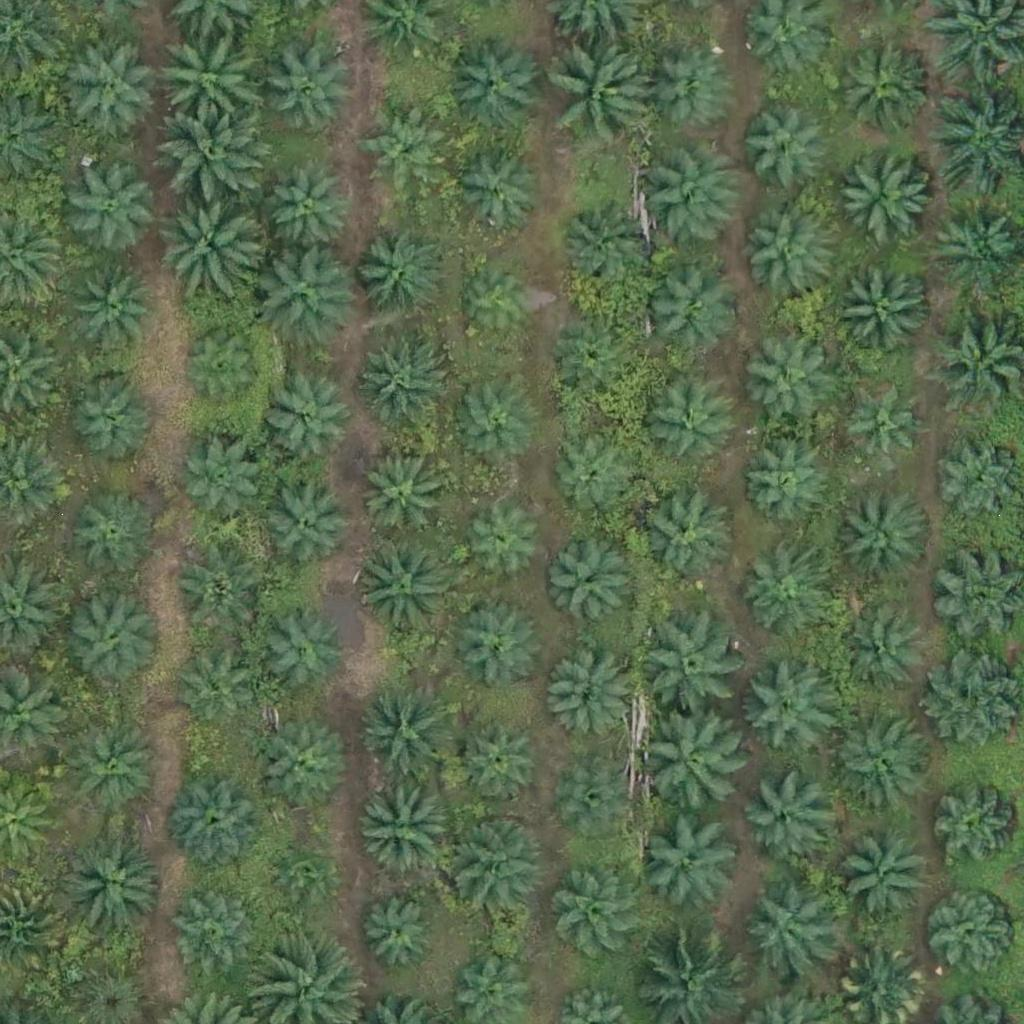Kelapa_Sawit: (635, 708, 748, 822), (647, 813, 747, 914), (441, 813, 541, 914), (168, 773, 268, 874), (60, 830, 160, 931), (57, 36, 157, 137), (62, 582, 162, 683), (60, 715, 160, 816), (158, 36, 258, 137), (156, 189, 256, 290), (259, 245, 359, 346), (354, 541, 454, 642), (357, 681, 457, 782), (552, 47, 652, 148), (559, 195, 659, 296), (632, 491, 732, 592), (647, 616, 747, 717), (737, 328, 837, 429), (831, 711, 931, 812), (832, 262, 932, 363), (834, 143, 934, 244), (830, 34, 930, 135), (355, 780, 455, 880), (163, 107, 263, 207), (442, 38, 542, 138), (449, 142, 549, 242), (642, 149, 742, 249), (738, 654, 838, 754), (358, 234, 446, 323), (740, 773, 828, 861), (741, 889, 829, 977), (556, 873, 644, 961), (171, 894, 259, 982), (67, 373, 155, 461), (68, 493, 156, 581), (182, 437, 270, 525), (175, 551, 263, 639), (268, 169, 356, 257), (260, 380, 348, 468), (264, 481, 352, 569), (256, 610, 344, 698), (361, 104, 449, 192), (358, 340, 446, 428), (554, 319, 642, 407), (644, 46, 732, 134), (645, 267, 733, 355), (641, 379, 729, 467), (742, 104, 830, 192), (742, 211, 830, 299), (739, 444, 827, 532), (841, 488, 929, 576), (70, 259, 157, 348), (835, 381, 922, 470), (931, 787, 1018, 875), (928, 896, 1015, 984), (837, 833, 924, 921), (70, 169, 157, 257), (173, 646, 260, 734), (176, 328, 263, 416), (263, 726, 350, 814), (265, 48, 352, 136), (361, 454, 448, 542), (456, 718, 543, 806), (456, 600, 543, 688), (463, 496, 550, 584), (451, 373, 538, 461), (550, 436, 637, 524), (549, 545, 636, 633), (546, 653, 633, 741), (738, 551, 825, 639), (836, 609, 923, 697), (461, 267, 536, 343), (360, 896, 435, 972), (560, 763, 635, 839), (271, 840, 333, 903)
